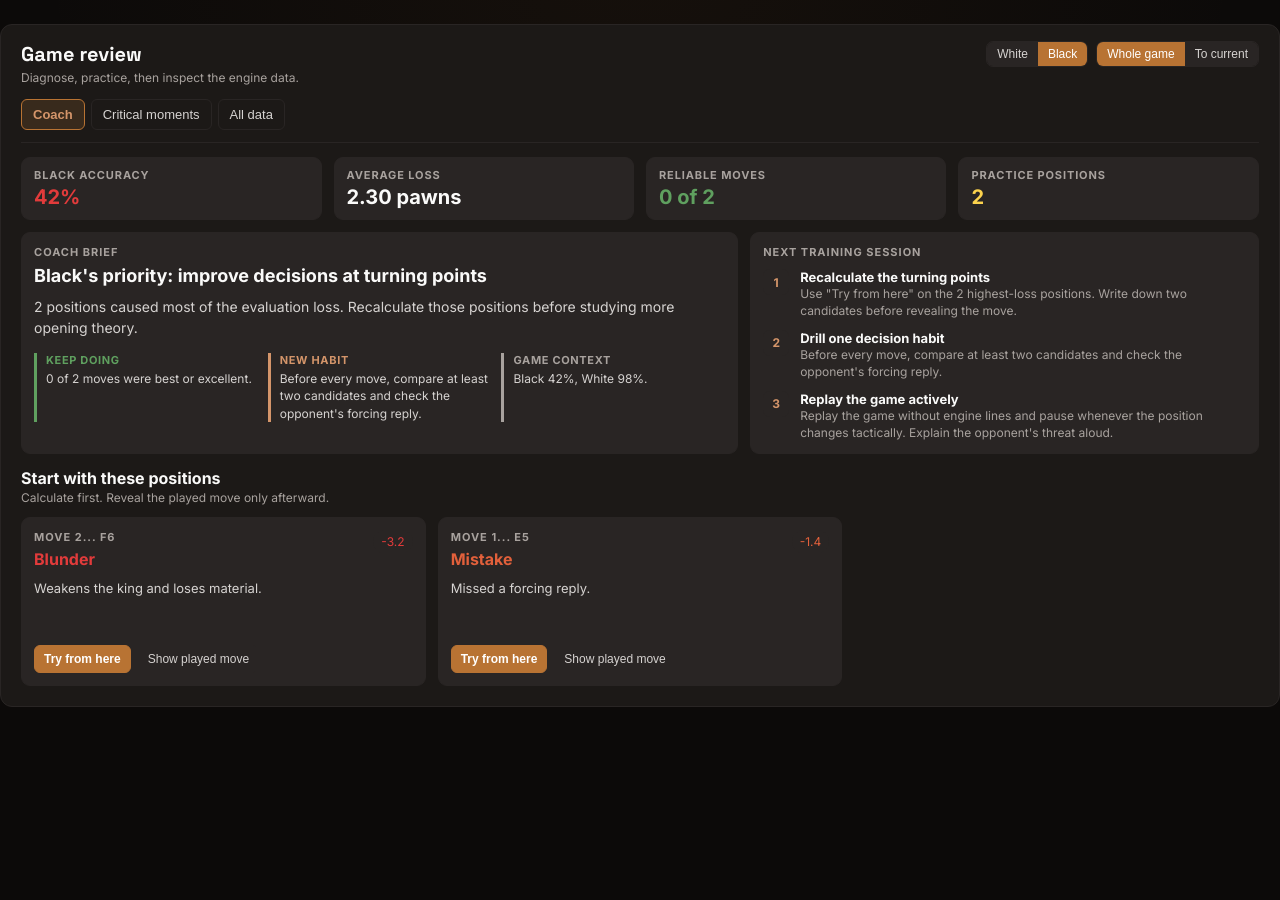
Scenario: AnalyticsPanel tutor workflow › keeps the complete diagnostics available in the All data view
This screenshot has width=1280, height=900.
What coordinates should you click on to do the following:
click the button "All data"
I would click on:
 (251, 114)
Its box is [218,99,285,130].
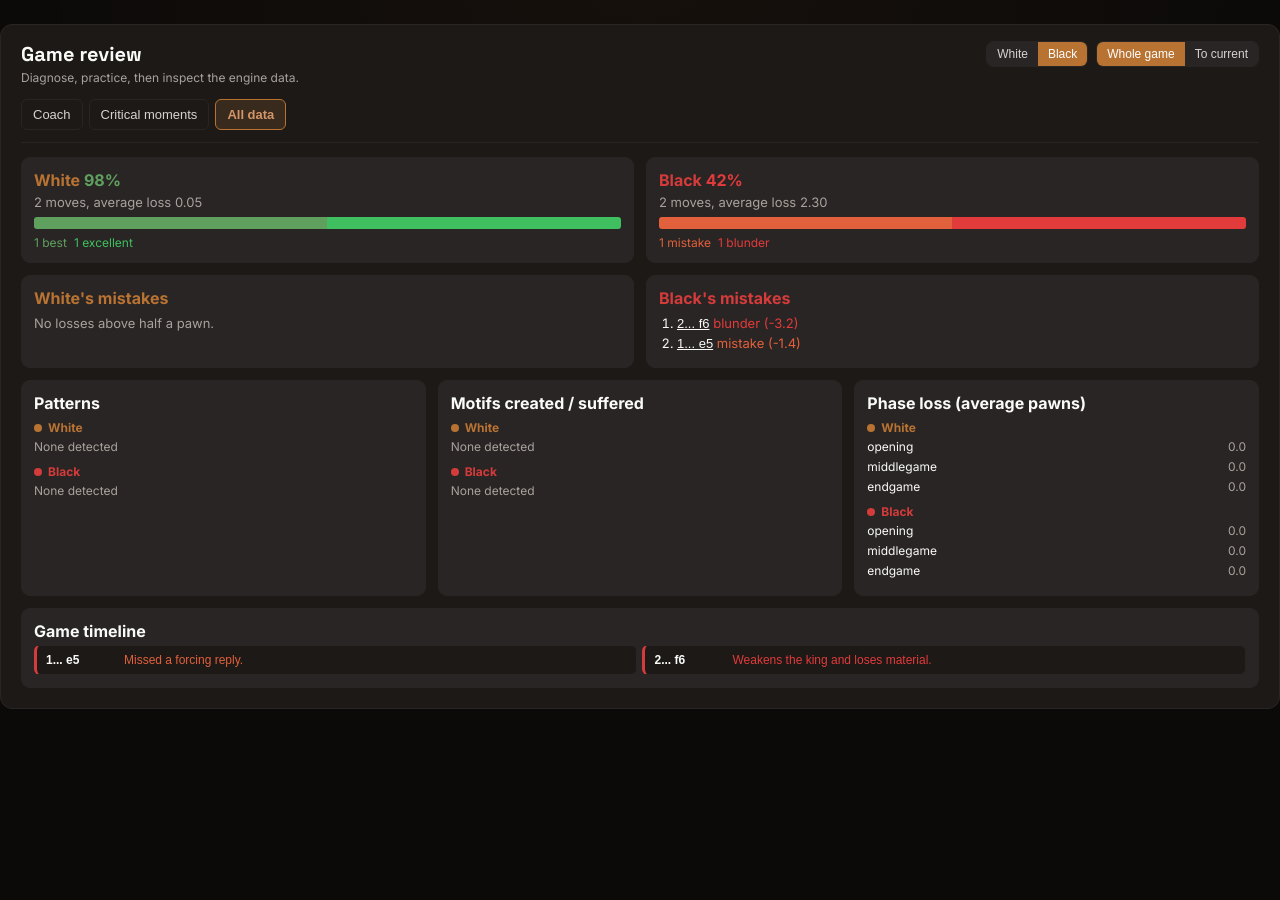
Check: the heading "Phase loss (average pawns)" is shown, box [867,393,1086,413]
Check: the heading "Black's mistakes" is shown, box [659,288,790,308]
Check: the heading "Game timeline" is shown, box [34,621,146,641]
